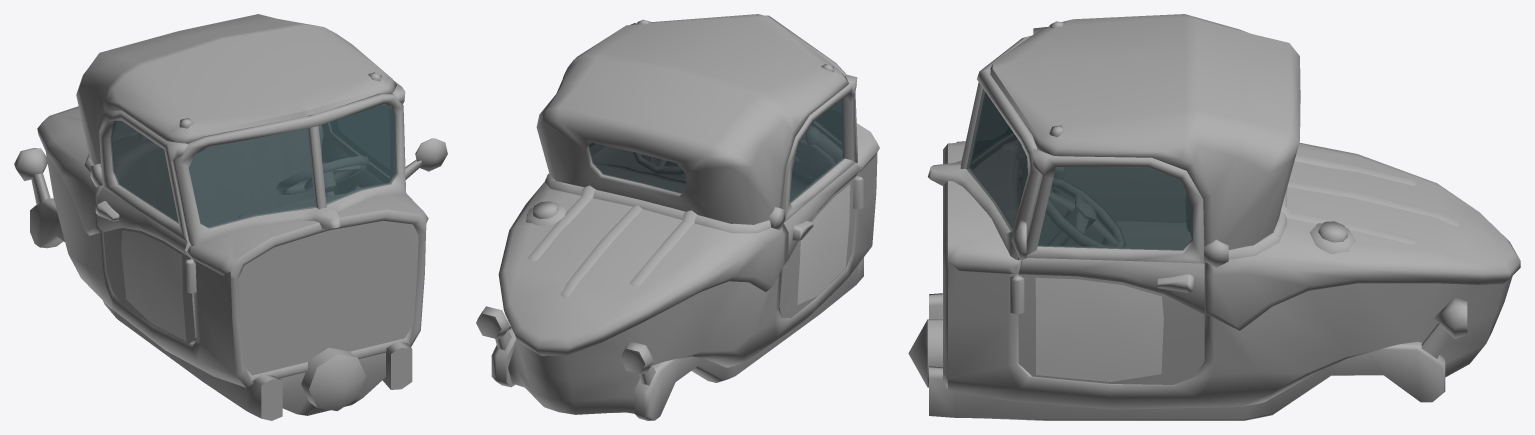
Rendered from Body_Boattail.fbx.
3 renders of one model, left to right at view 1: azimuth 30°, elevation 25°; view 2: azimuth 150°, elevation 25°; view 3: azimuth 270°, elevation 25°, orthographic. The views are drawn at different scales.
Parts seen in each view (by area): view 1: Bentley_Body_Mesh, Bentley_Body_Roof_Mesh, Bentley_Body_Window_Mesh, Bentley_Door_Right_Mesh, Bentley_Door_Right_Decal_Mesh, Bentley_Door_Right_Window_Mesh, Bentley_Door_Left_Window_Mesh, Bentley_Door_Left_Mesh, Bentley_SteerWheel_Mesh; view 2: Bentley_Body_Mesh, Bentley_Body_Roof_Mesh, Bentley_Door_Right_Mesh, Bentley_Door_Right_Decal_Mesh, Bentley_Door_Right_Window_Mesh, Bentley_Body_Roof_Window_Mesh, Bentley_Door_Left_Mesh, Bentley_Body_Window_Mesh, Bentley_SteerWheel_Mesh; view 3: Bentley_Body_Mesh, Bentley_Body_Roof_Mesh, Bentley_Door_Left_Mesh, Bentley_Door_Left_Decal_Mesh, Bentley_Door_Left_Window_Mesh, Bentley_Door_Right_Mesh, Bentley_Body_Window_Mesh, Bentley_SteerWheel_Mesh.
Part boxes in pixels (box(x1,y1,x2,y2)): Bentley_Body_Mesh: box(14, 93, 447, 420); Bentley_Body_Roof_Mesh: box(76, 14, 396, 186); Bentley_Body_Window_Mesh: box(188, 105, 397, 228); Bentley_Door_Right_Mesh: box(95, 110, 196, 344); Bentley_Door_Right_Decal_Mesh: box(121, 230, 186, 341); Bentley_Door_Right_Window_Mesh: box(110, 120, 178, 223); Bentley_Door_Left_Window_Mesh: box(330, 105, 389, 175); Bentley_Door_Left_Mesh: box(322, 81, 407, 194); Bentley_SteerWheel_Mesh: box(276, 156, 369, 196); Bentley_Body_Mesh: box(476, 15, 879, 420); Bentley_Body_Roof_Mesh: box(536, 14, 848, 229); Bentley_Door_Right_Mesh: box(778, 74, 859, 318); Bentley_Door_Right_Decal_Mesh: box(797, 184, 850, 304); Bentley_Door_Right_Window_Mesh: box(789, 99, 844, 202); Bentley_Body_Roof_Window_Mesh: box(588, 142, 686, 193); Bentley_Door_Left_Mesh: box(590, 23, 657, 172); Bentley_Body_Window_Mesh: box(817, 101, 841, 141); Bentley_SteerWheel_Mesh: box(633, 152, 684, 175); Bentley_Body_Mesh: box(908, 35, 1520, 420); Bentley_Body_Roof_Mesh: box(990, 14, 1300, 267); Bentley_Door_Left_Mesh: box(1018, 149, 1204, 384); Bentley_Door_Left_Decal_Mesh: box(1035, 277, 1163, 381); Bentley_Door_Left_Window_Mesh: box(1037, 167, 1192, 250); Bentley_Door_Right_Mesh: box(1021, 27, 1186, 245); Bentley_Body_Window_Mesh: box(966, 89, 1027, 231); Bentley_SteerWheel_Mesh: box(1046, 177, 1125, 247).
Bounding box in the file's own units: 165 × 167 × 276.
